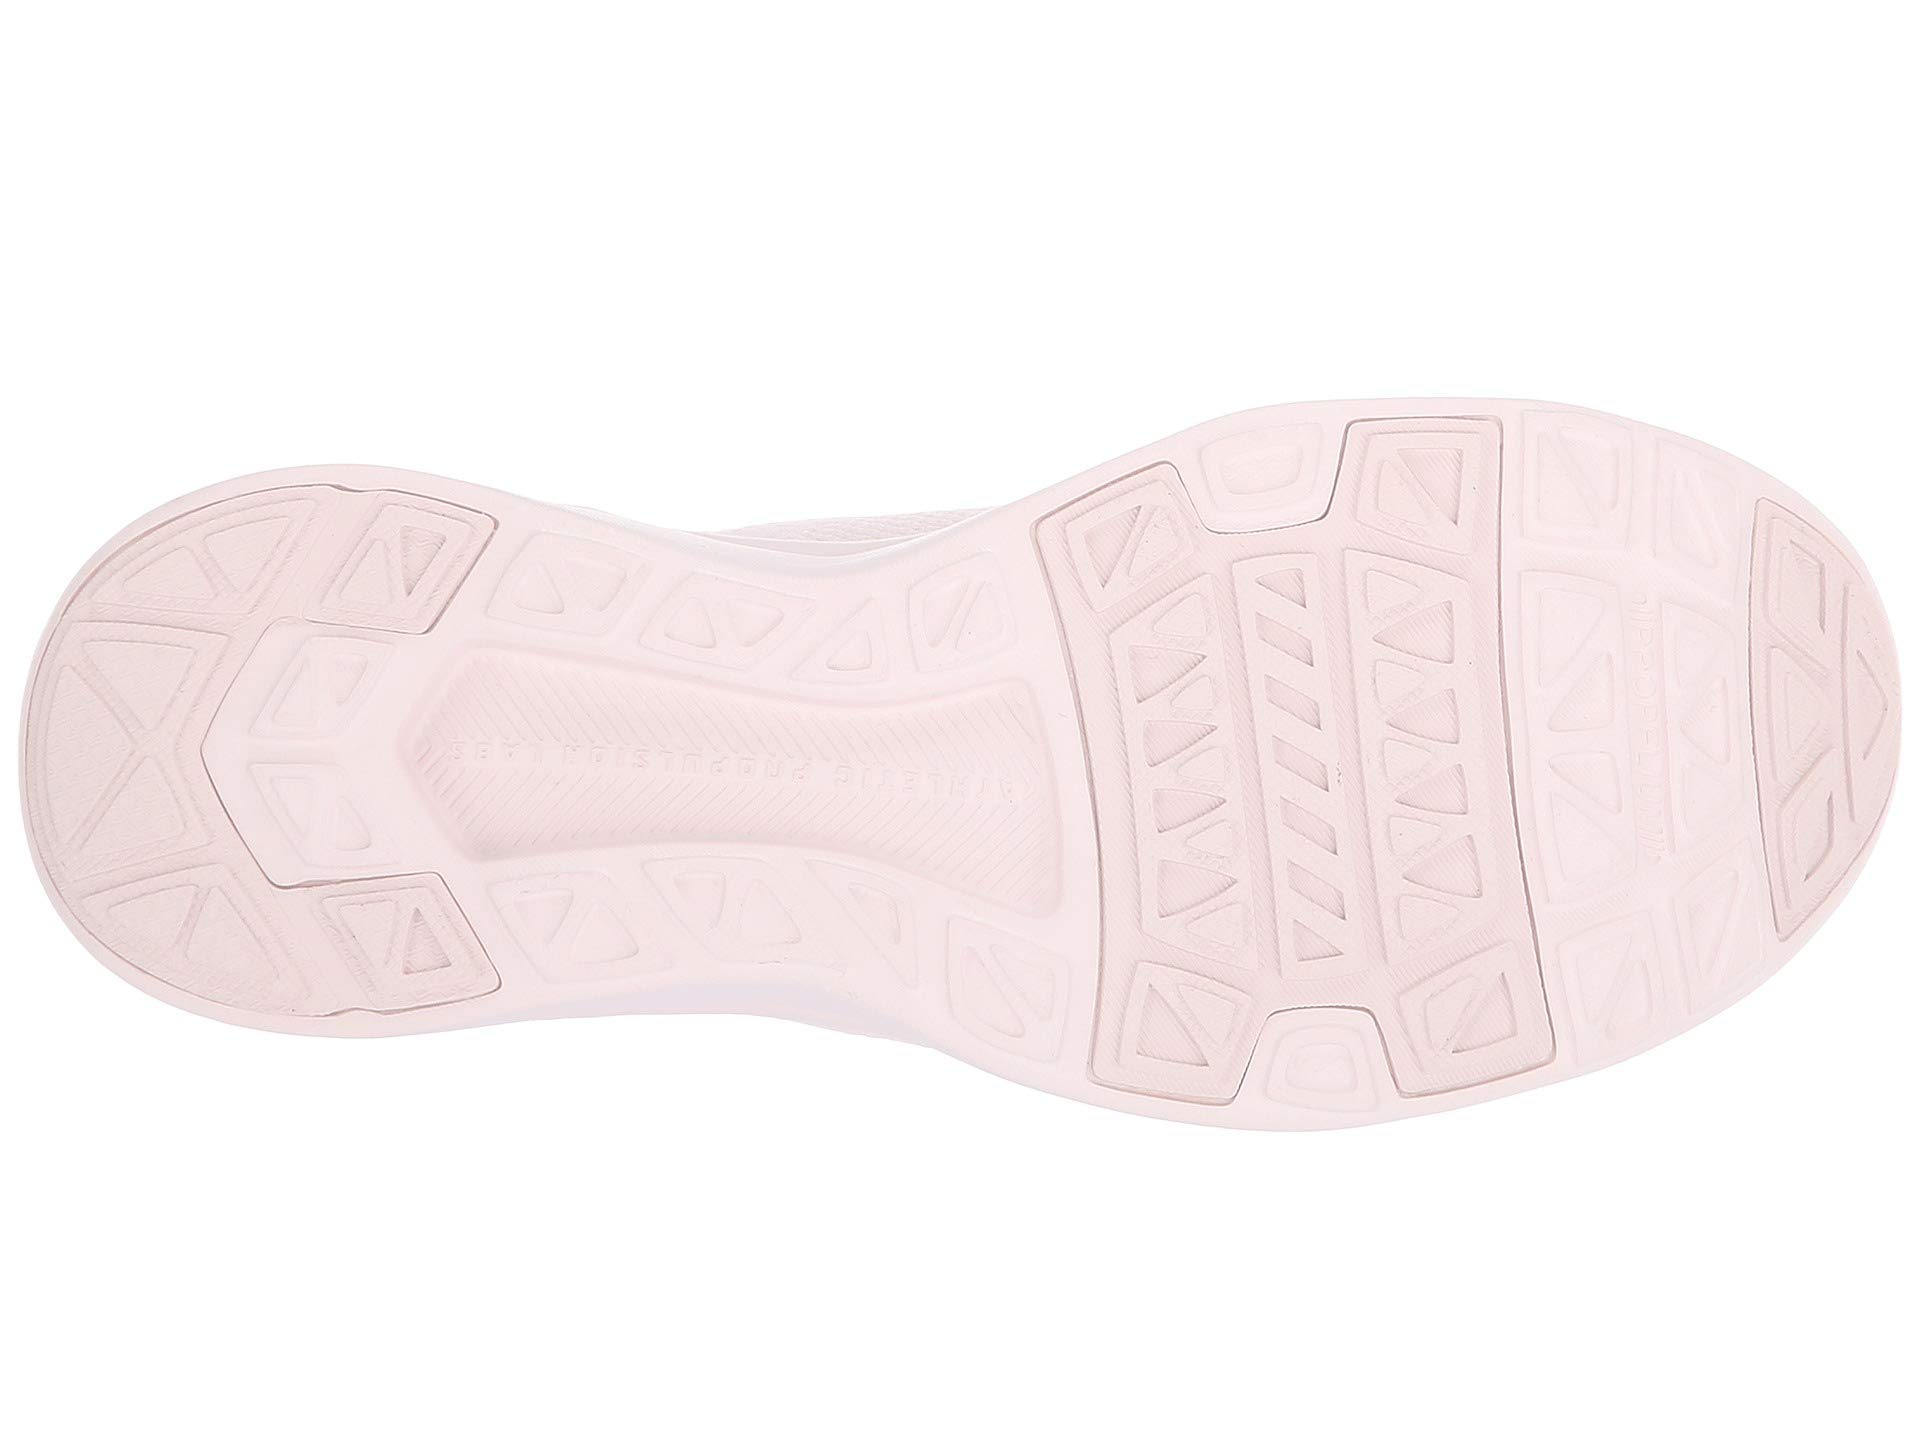line: (661, 703, 788, 862)
quad: (1196, 542, 1531, 850), (1628, 581, 1912, 874), (319, 460, 531, 652), (466, 853, 689, 1016)
text: (661, 703, 788, 862)
triangle: (1196, 542, 1531, 850), (1628, 581, 1912, 874), (17, 585, 237, 812), (319, 460, 531, 652), (466, 853, 689, 1016)
